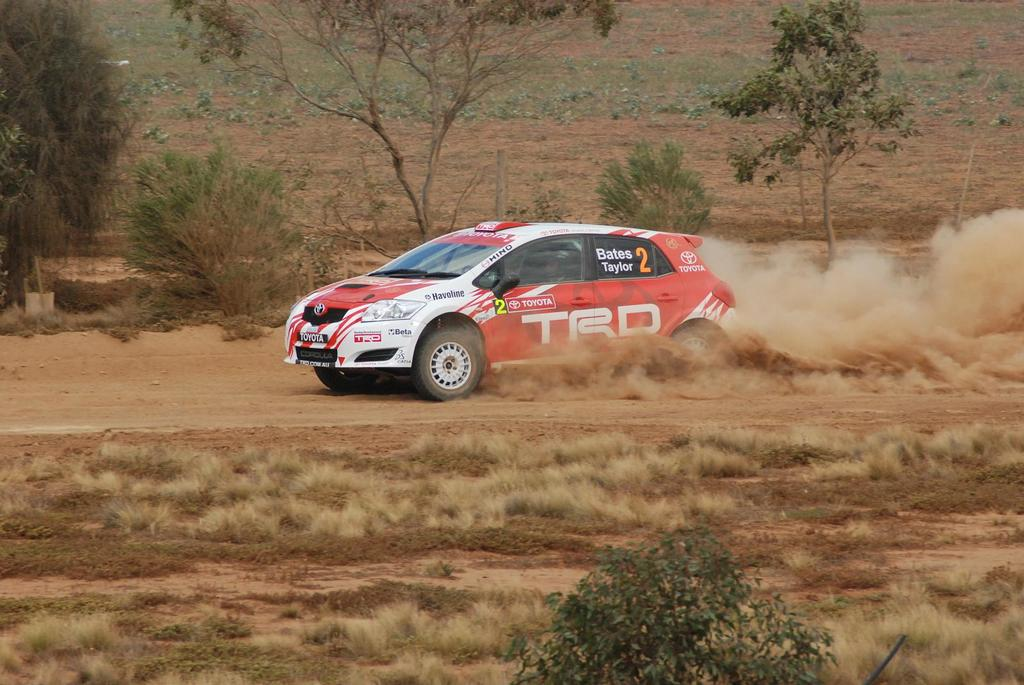Car: (286, 219, 743, 402)
